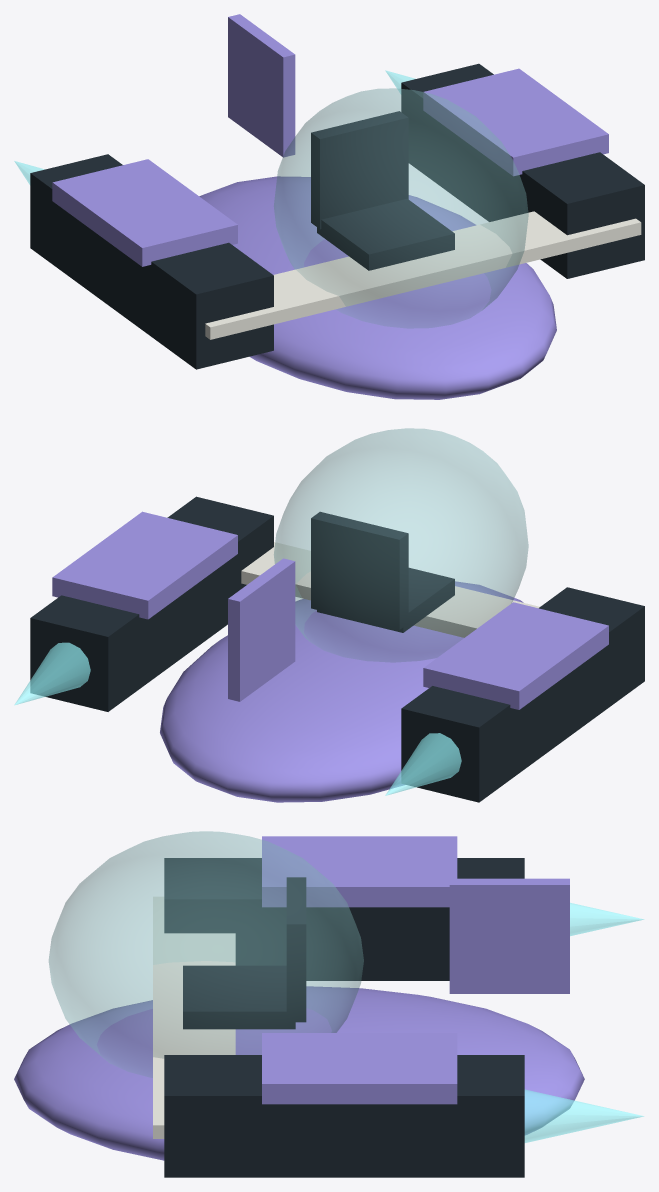
The model's file is space.glb.
The picture shows the model from 3 angles, top to bottom: view 1: azimuth 30°, elevation 25°; view 2: azimuth 150°, elevation 25°; view 3: azimuth 270°, elevation 25°; orthographic projection. The views are drawn at different scales.
Visible parts, largest first — view 1: space; view 2: space; view 3: space.
Part boxes in pixels (bbox=[...]): space: bbox=[14, 14, 644, 399]; space: bbox=[14, 428, 644, 802]; space: bbox=[14, 831, 644, 1177].
Size of the model in its own units: 3.9 by 2.09 by 4.2.
